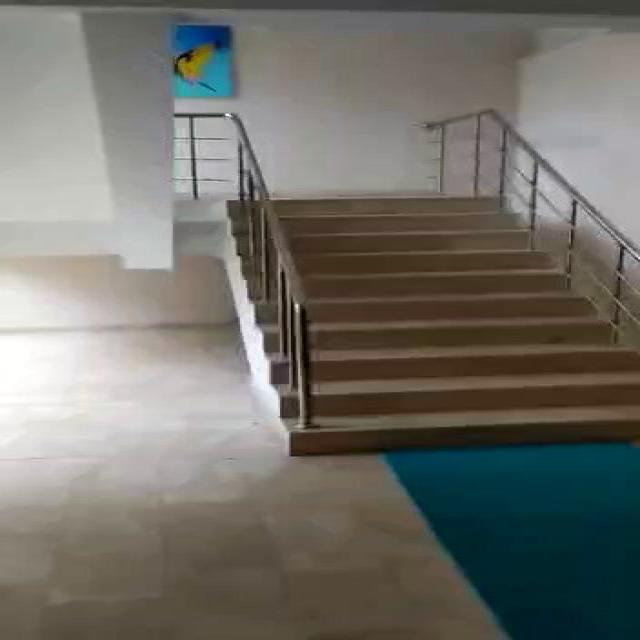stair: (215, 195, 640, 453)
